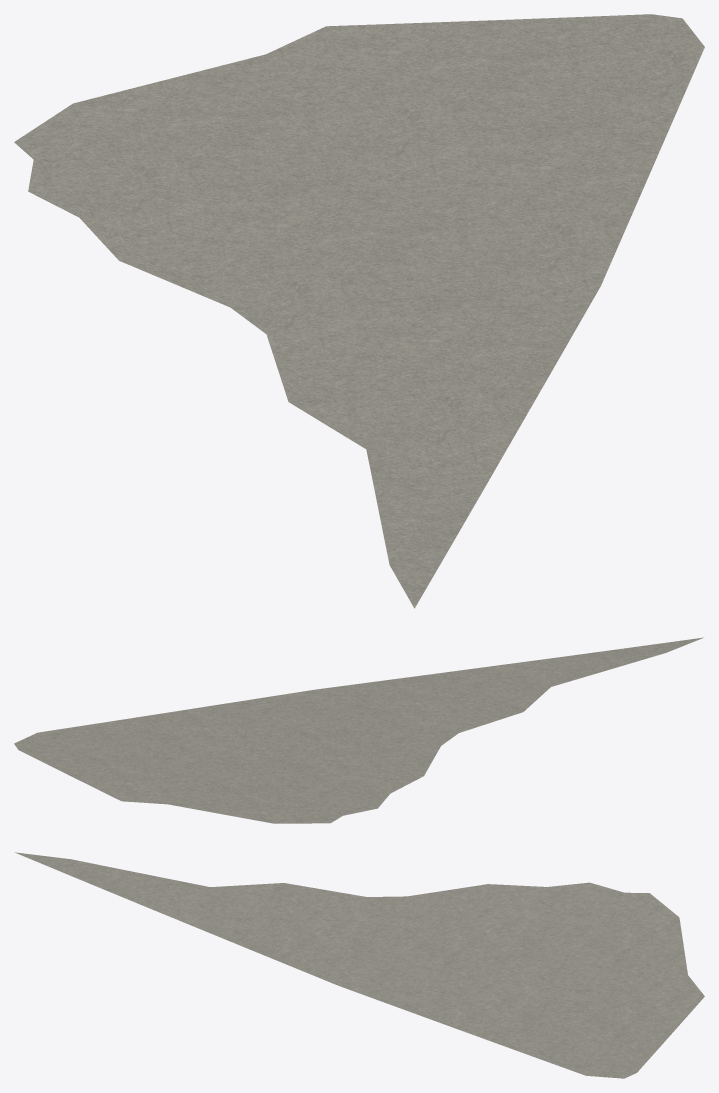
The model's file is path_08.gltf.
The picture shows the model from 3 angles, top to bottom: view 1: azimuth 30°, elevation 25°; view 2: azimuth 150°, elevation 25°; view 3: azimuth 270°, elevation 25°; orthographic projection. The views are drawn at different scales.
Parts seen in each view (by area): view 1: path_08.surface; view 2: path_08.surface; view 3: path_08.surface.
Boxes of the visible parts, x1,y1,x2,y2 form: path_08.surface: [14, 14, 704, 608]; path_08.surface: [14, 637, 703, 823]; path_08.surface: [15, 852, 704, 1078].
Bounding box in the file's own units: 6.18 × 0.1288 × 8.13.
1 material, 1 textured.
